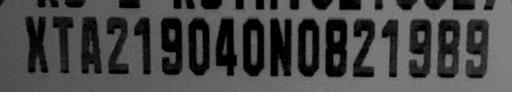letter: (266, 15, 294, 77), (294, 17, 322, 79), (104, 14, 132, 74), (21, 15, 49, 75), (213, 15, 239, 77), (240, 15, 266, 77), (322, 16, 348, 78), (407, 16, 433, 78), (465, 17, 491, 79), (186, 15, 212, 75), (158, 16, 184, 76), (350, 17, 376, 77), (78, 15, 104, 73), (436, 17, 460, 77), (50, 15, 74, 73), (131, 14, 153, 74), (380, 18, 400, 78)
